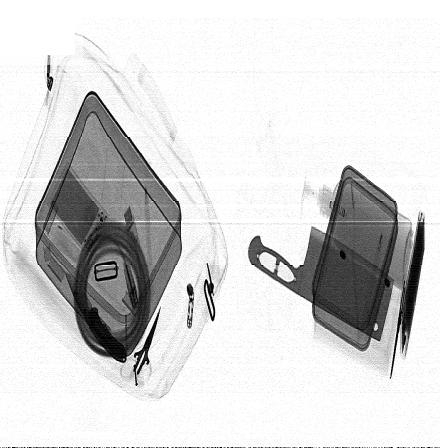Knife: (247, 224, 394, 342), (64, 274, 127, 362)
Powerbank: (46, 159, 109, 255), (401, 212, 426, 360)
Scissors: (392, 237, 422, 368), (120, 305, 163, 386)
